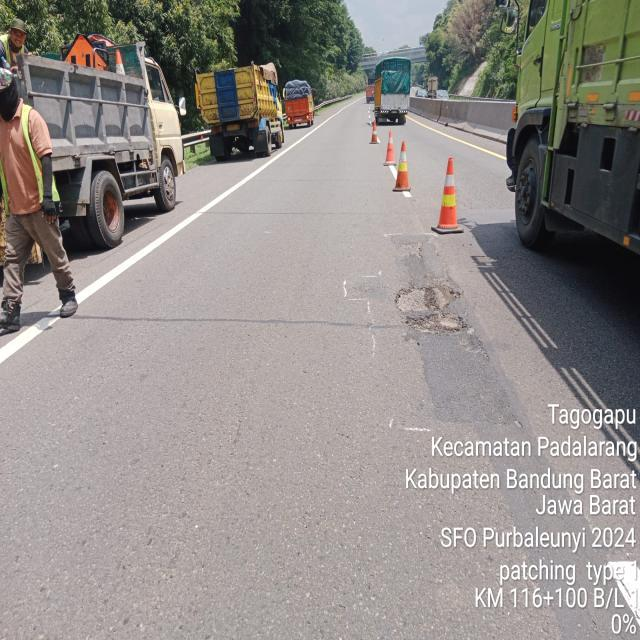Buraco: (392, 282, 474, 338), (396, 239, 425, 261)
